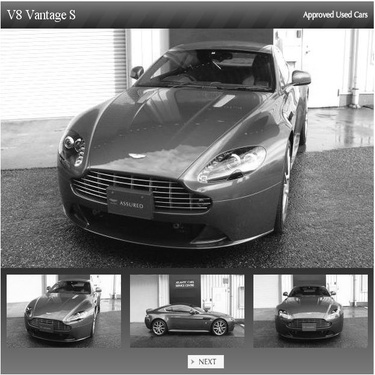car: (55, 31, 317, 262), (12, 270, 107, 349), (274, 272, 347, 343), (139, 296, 240, 343)
